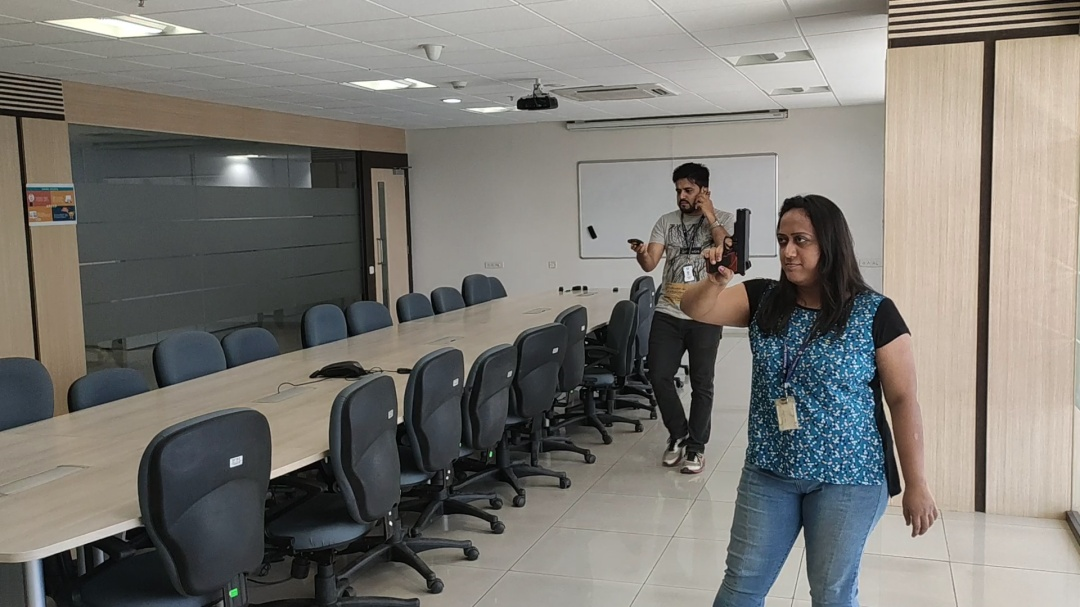gun: (705, 208, 753, 277)
